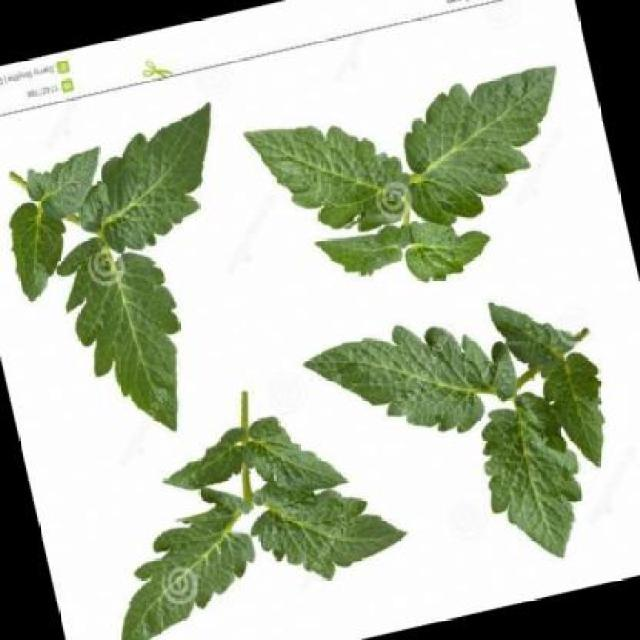Healthy Leaf: (378, 34, 591, 245), (280, 286, 520, 472), (37, 206, 209, 460), (223, 85, 414, 263), (61, 489, 277, 640), (456, 386, 612, 589), (243, 448, 432, 604)
